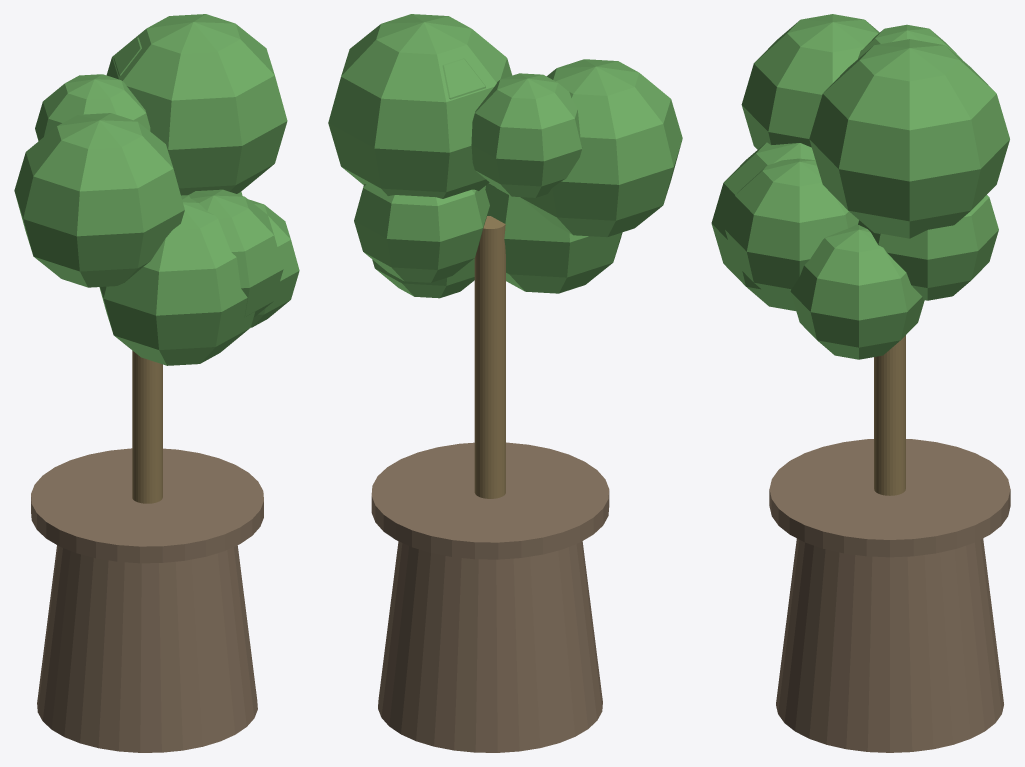
Rendered from plantlarge.glb.
3 renders of one model, left to right at view 1: azimuth 30°, elevation 25°; view 2: azimuth 150°, elevation 25°; view 3: azimuth 270°, elevation 25°, orthographic. The views are drawn at different scales.
Parts seen in each view (by area): view 1: PlantLarge; view 2: PlantLarge; view 3: PlantLarge.
Boxes of the visible parts, x1=… form: PlantLarge: x1=14, y1=14, x2=299, y2=752; PlantLarge: x1=328, y1=14, x2=682, y2=752; PlantLarge: x1=711, y1=14, x2=1010, y2=752.
Bounding box in the file's own units: 0.5483 × 1.19 × 0.4715.
